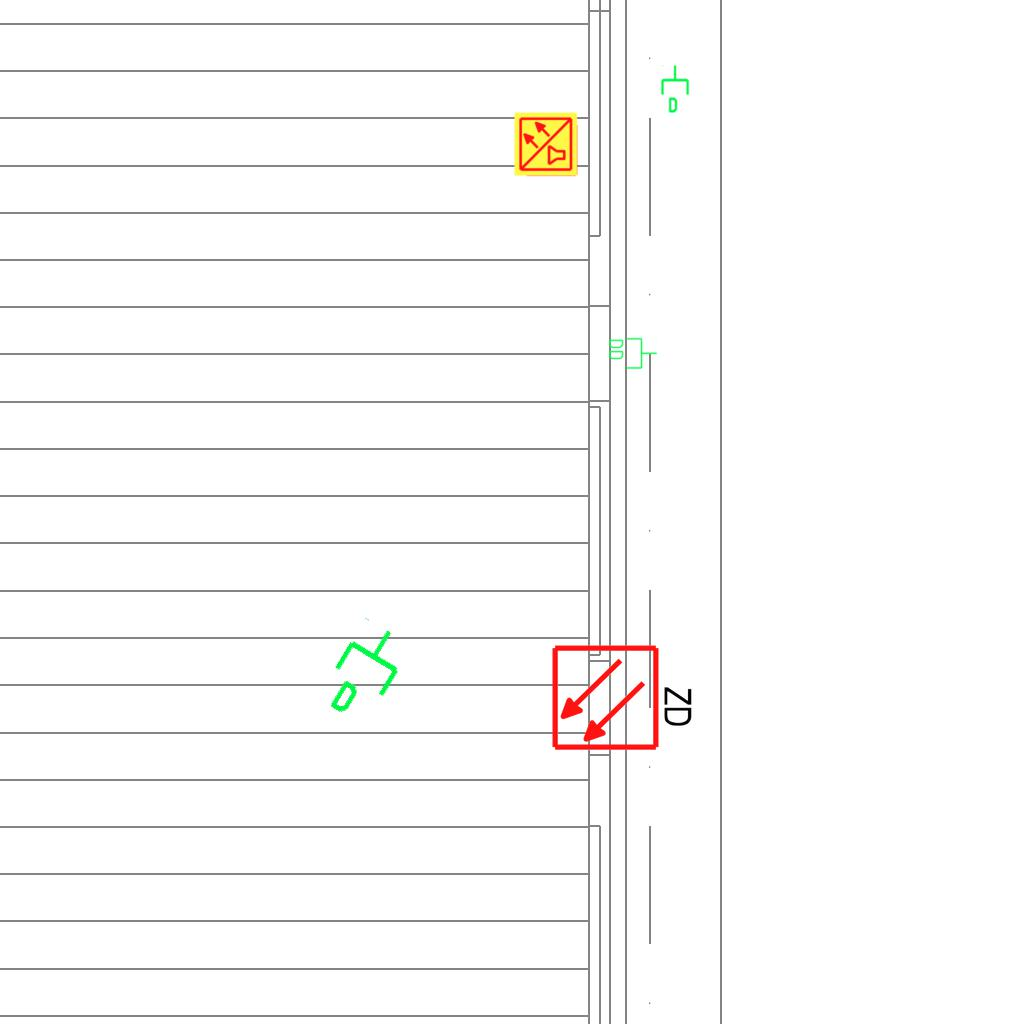Datenanschluss_einfach: (311, 612, 422, 734), (659, 64, 693, 114)
Datenanschluss_zweifach: (607, 336, 658, 370)
OKW_Multisensormelder_(Kombination_optischer_Rauch-Kahlenmonoxid_Waerme-Melder): (513, 111, 579, 177)
ZD_Melder_in_Zwischendecke_mit_Revisionsoeffnung_mind_40_x_40_cm: (550, 639, 699, 753)
